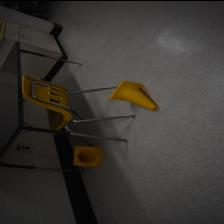cone: (108, 80, 159, 110), (72, 144, 103, 167)
